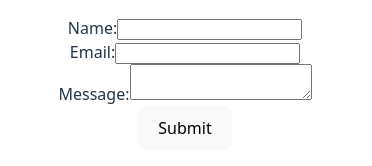
Test: ContactForm Component › shows email validation error for invalid email
Type "John Doe" into the field with test id "name-input". click: {"x": 210, "y": 30}
box: [117, 19, 302, 40]
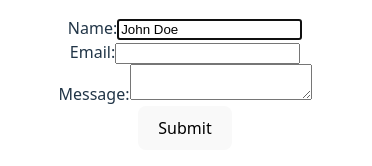
Type "invalid-email" into the field with test id "email-input". click: {"x": 208, "y": 54}
box: [115, 43, 300, 64]
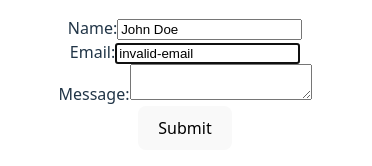
Type "Hello world" into the text box with test id "message-input". click: {"x": 220, "y": 82}
box: [130, 64, 312, 100]
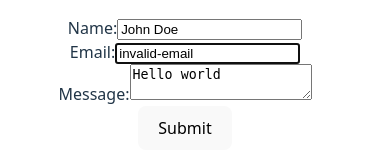
Submit the form with test id "contact-form", box [58, 16, 312, 150]
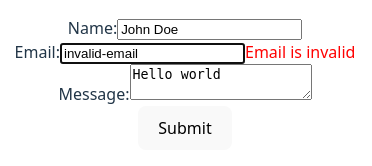
Now the text with test id "email-error" reads "Email is invalid", box [245, 41, 355, 63]
